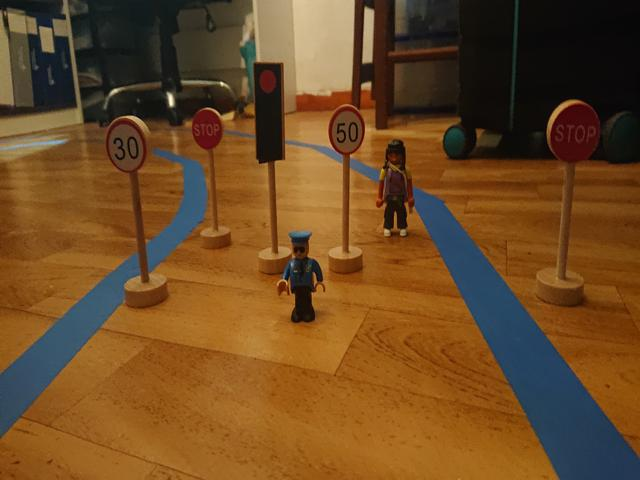30 speed sign: (106, 120, 147, 173)
50 speed sign: (327, 105, 365, 155)
person: (275, 234, 325, 323), (374, 138, 417, 236)
red light: (253, 65, 281, 161)
stop sign: (548, 103, 599, 163), (190, 109, 227, 149)
